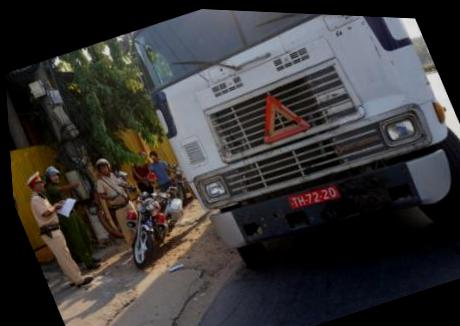License_Plate: (285, 181, 339, 214)
